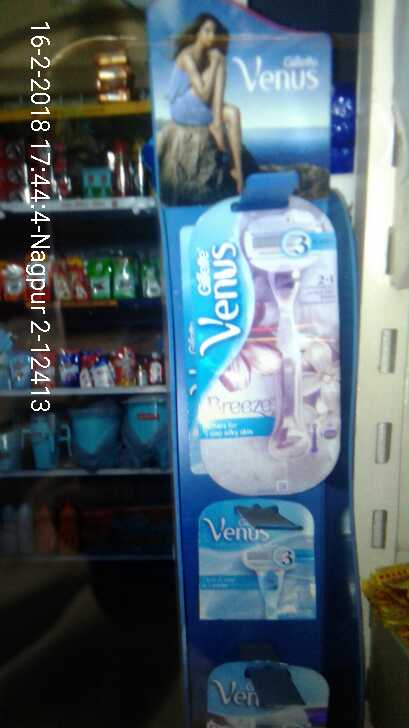venus: (189, 197, 353, 504), (197, 496, 326, 632)
